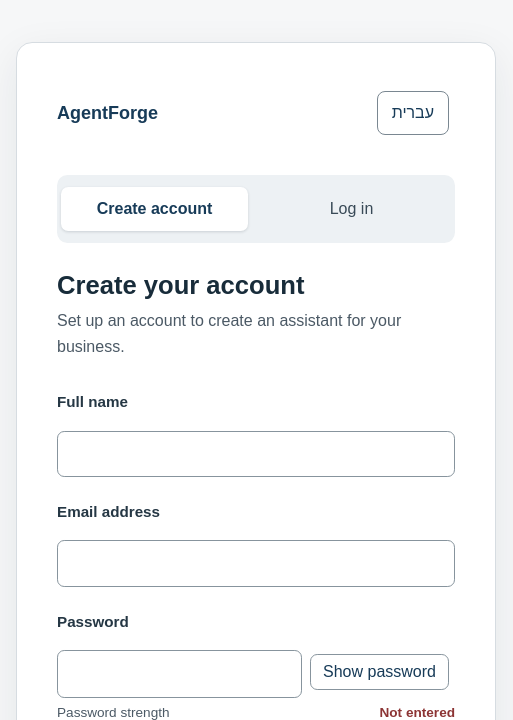
Stage 1 authentication › shows registration errors as clear business language
Type "Business Owner" into the field labelled "Full name". click: (256, 454)
box: [57, 431, 455, 477]
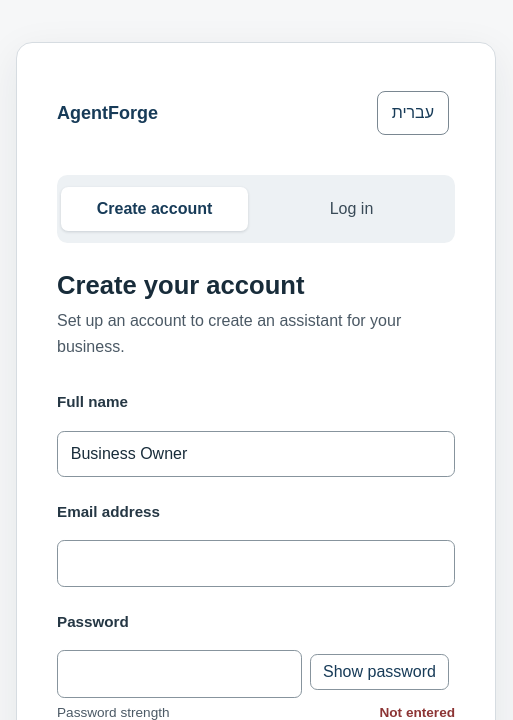
Type "owner@example.com" into the field labelled "Email address". click: (256, 564)
box: [57, 540, 455, 587]
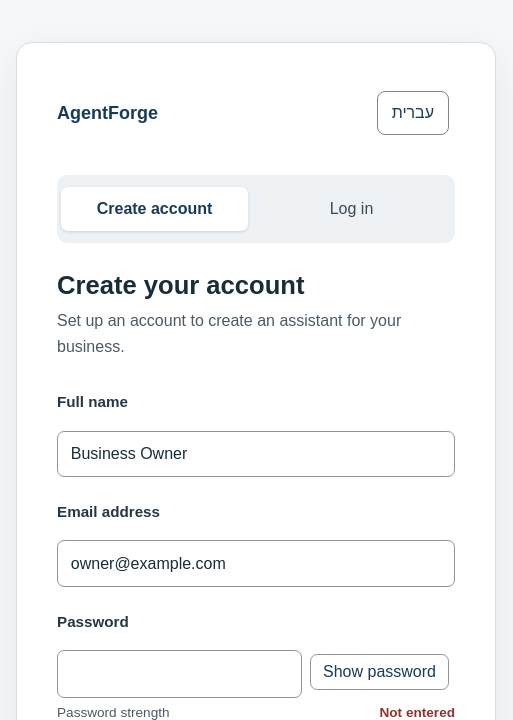
Type "StrongPass123!" into the password field labelled "Password". click: (180, 674)
box: [57, 650, 302, 698]
(page scrolled)
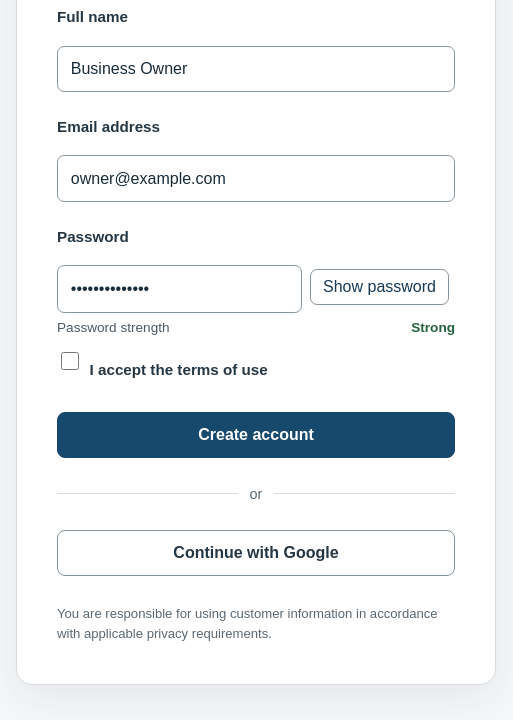
Click the checkbox labelled "I accept the terms of use". click: click(70, 361)
box: [61, 352, 79, 370]
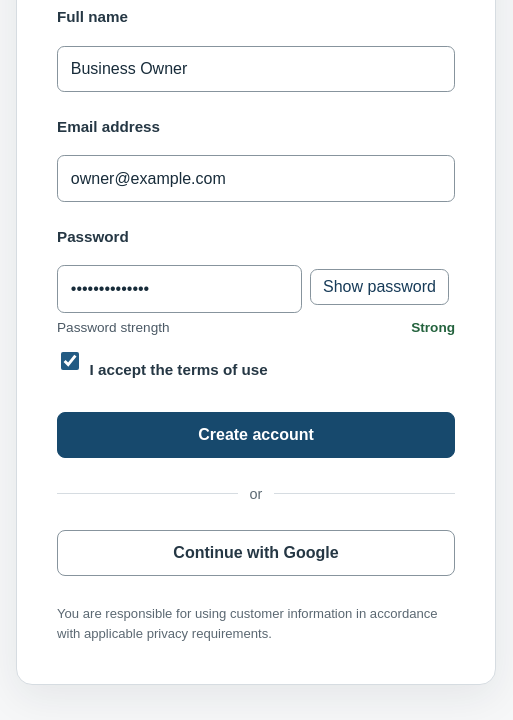
Click the button "Create account". click: click(256, 435)
box: [57, 412, 455, 458]
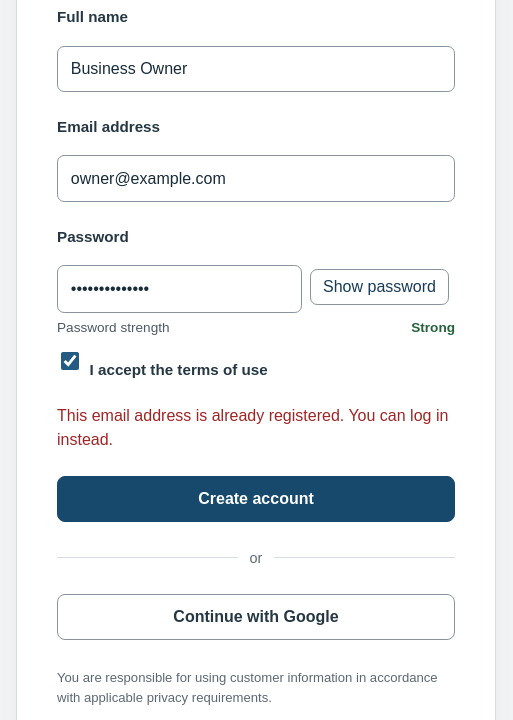
Expected: the message reads "This email address is already registered. You can log in instead.", [57, 406, 448, 448]
